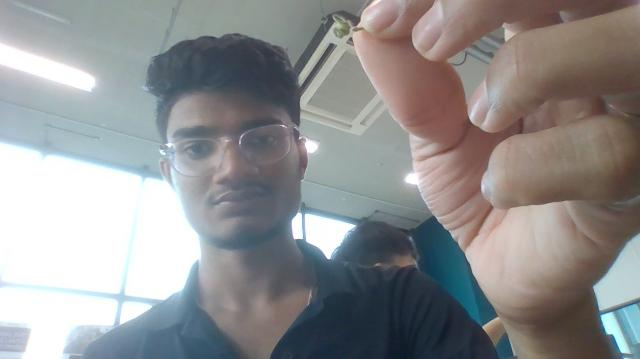Fruit Bud: (332, 19, 351, 38)
